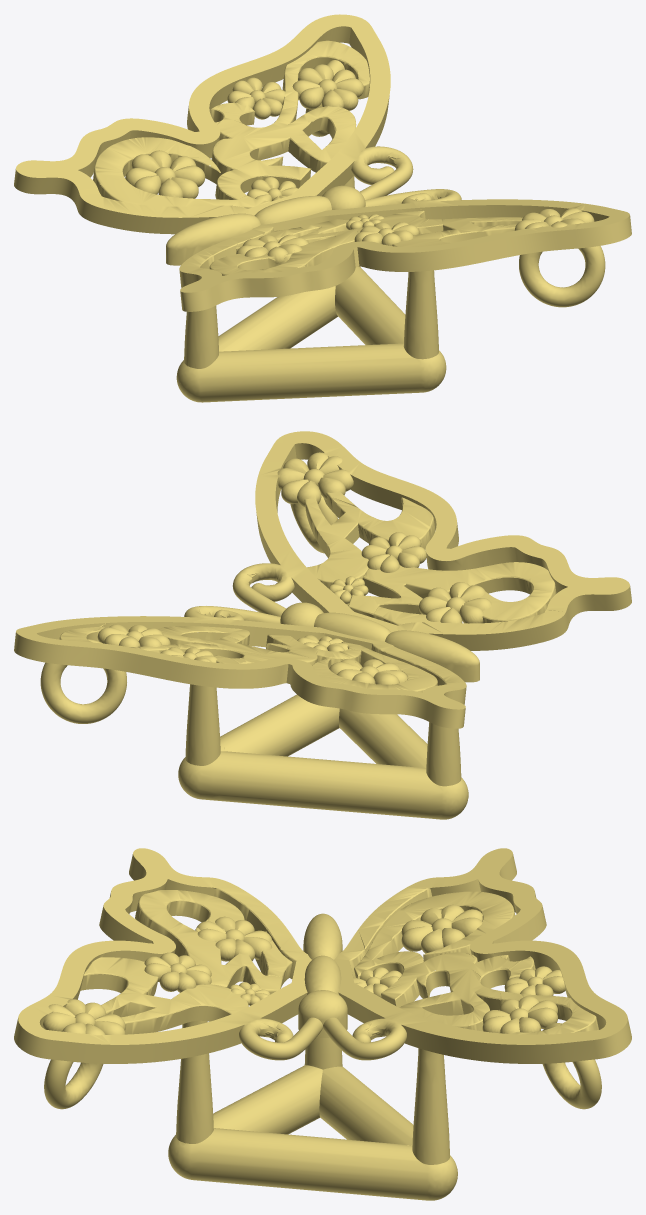
File: seyma.glb
3 renders of one model, top to bottom at view 1: azimuth 30°, elevation 25°; view 2: azimuth 150°, elevation 25°; view 3: azimuth 270°, elevation 25°, orthographic. The views are drawn at different scales.
Parts seen in each view (by area): view 1: Renderer Node; view 2: Renderer Node; view 3: Renderer Node.
Boxes of the visible parts, x1=… form: Renderer Node: x1=14, y1=14, x2=631, y2=402; Renderer Node: x1=14, y1=431, x2=631, y2=819; Renderer Node: x1=14, y1=848, x2=631, y2=1200.
Bounding box in the file's own units: 13.79 × 7.11 × 17.26.
